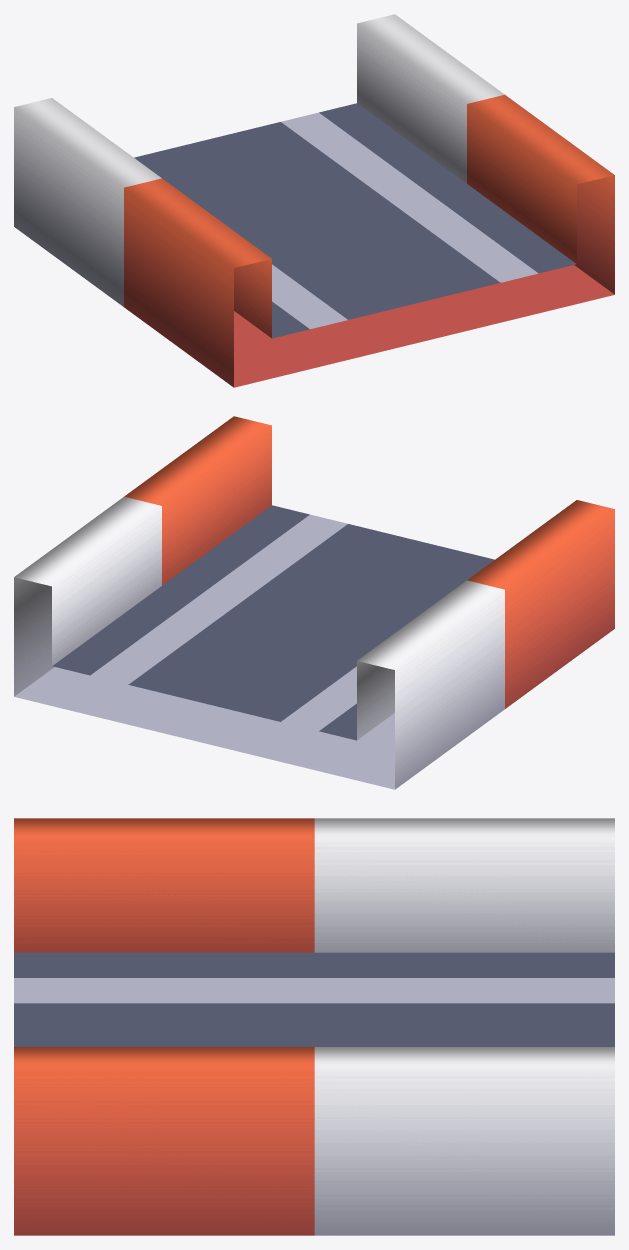
File: track_road_narrow.glb
3 renders of one model, top to bottom at view 1: azimuth 30°, elevation 25°; view 2: azimuth 150°, elevation 25°; view 3: azimuth 270°, elevation 25°, orthographic. The views are drawn at different scales.
Parts seen in each view (by area): view 1: track-road-narrow; view 2: track-road-narrow; view 3: track-road-narrow.
Part boxes in pixels (box(x1,y1,x2,y2)): track-road-narrow: box(14, 14, 614, 387); track-road-narrow: box(14, 416, 614, 789); track-road-narrow: box(14, 818, 614, 1235).
Size of the model in its own units: 1 by 0.3 by 1.
Materials: 1 (1 with a texture image).
